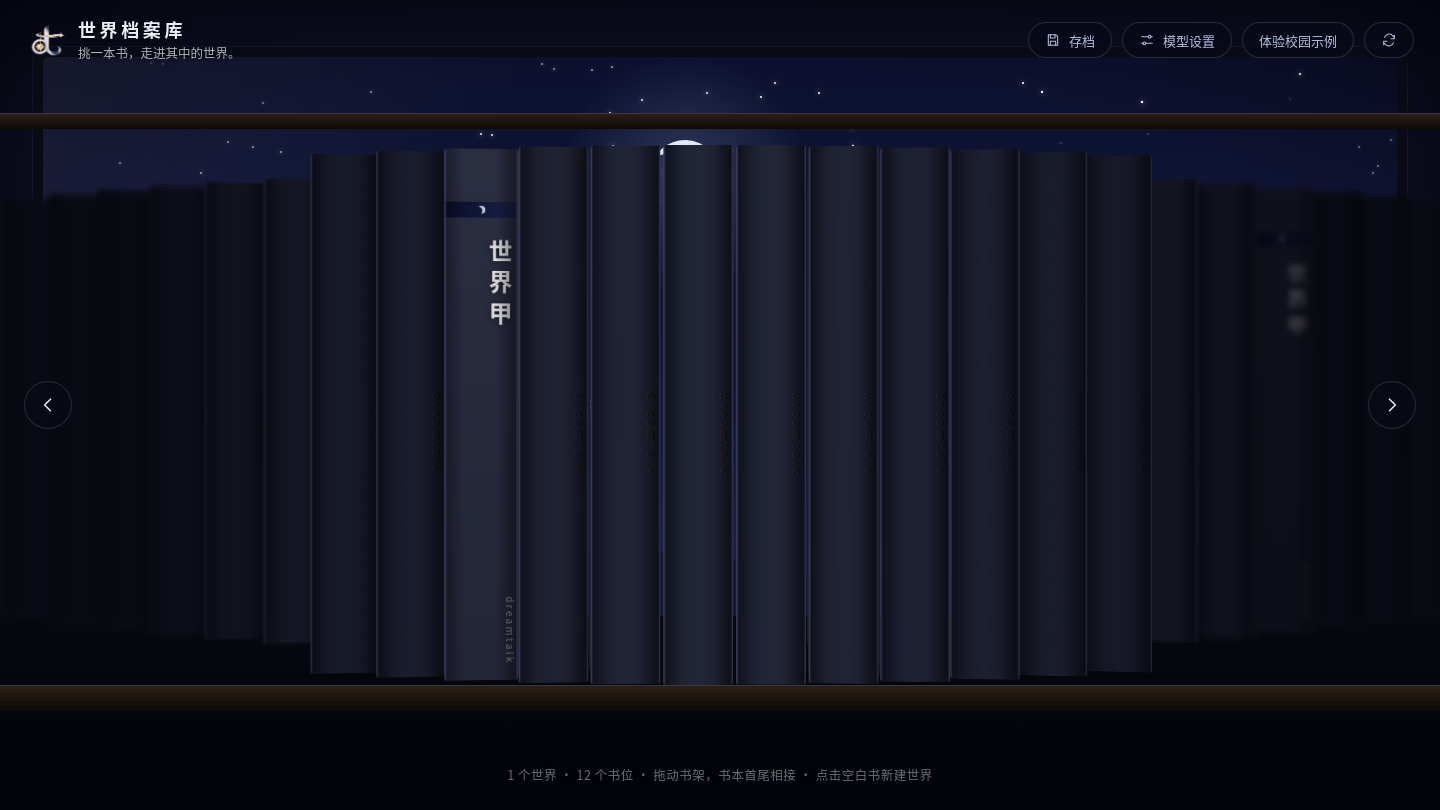
Test: renders four bottom tabs and keeps the known-event entry pinned
Click the button with aria-label "预览世界：世界甲".
click(489, 412)  # box [456,172,523,652]
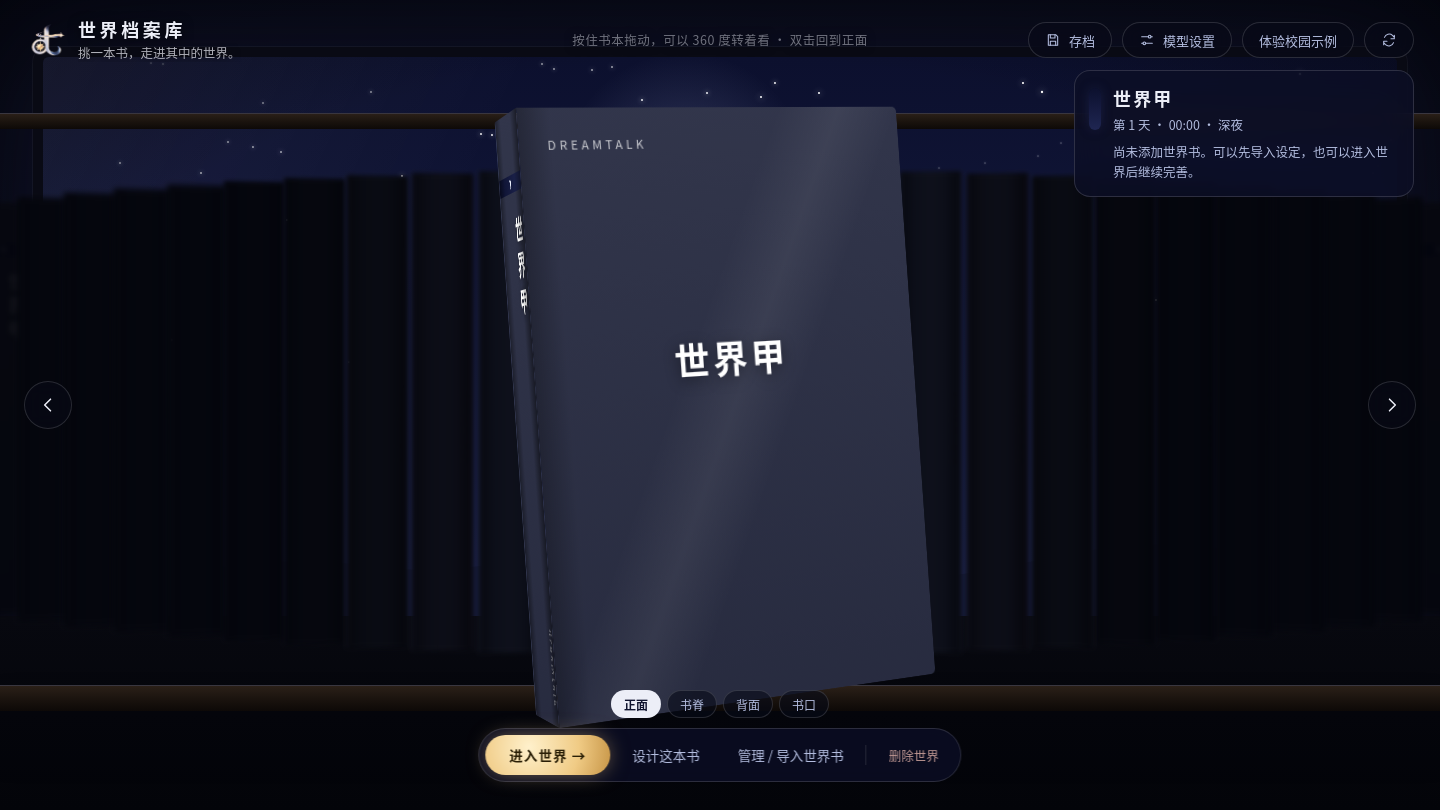
Click the button "进入世界 →".
click(548, 755)  # box [485,735,610,775]
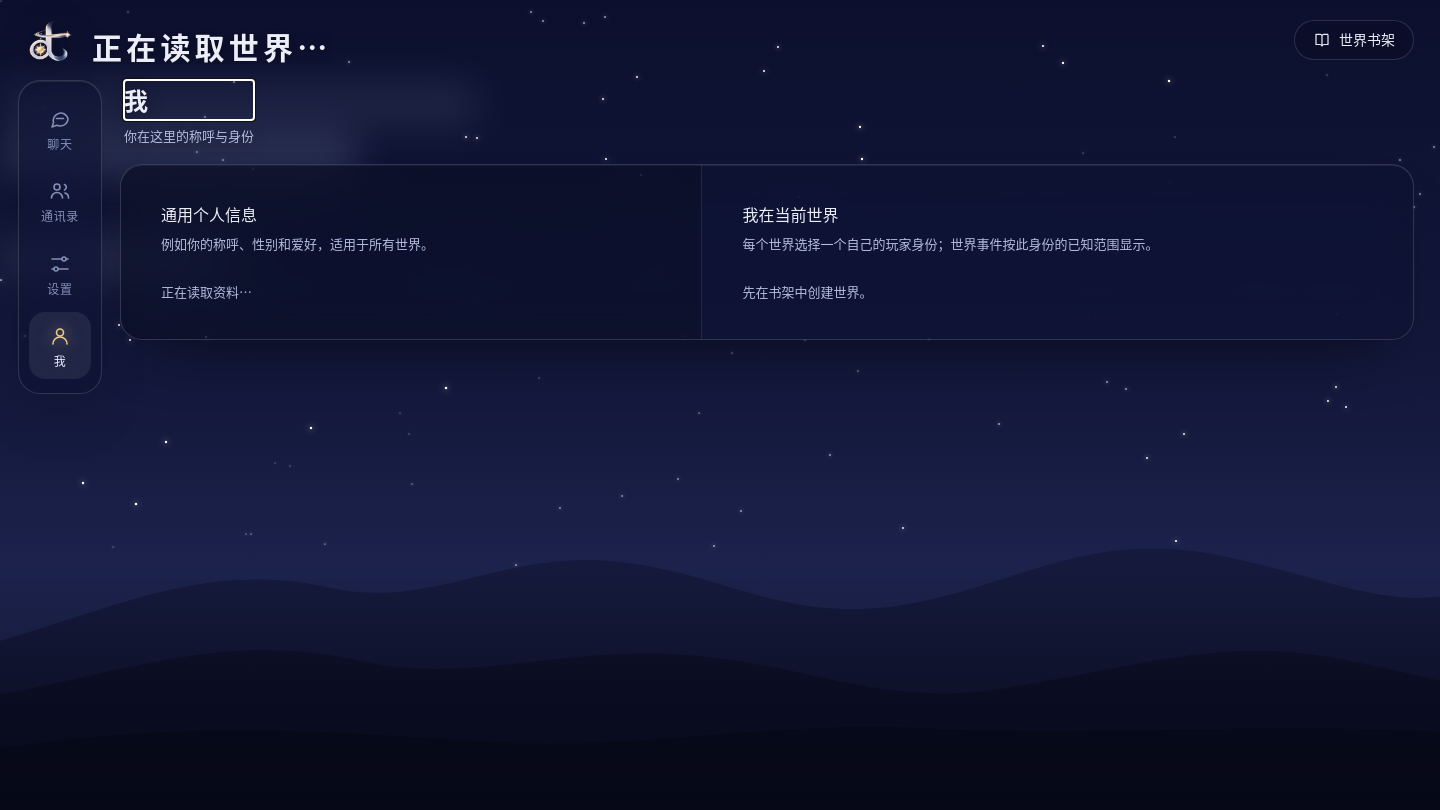
Expected: the navigation bar named "主导航" is shown, [18,80,102,394]
Click the button "聊天".
click(60, 128)  # box [29,95,91,161]
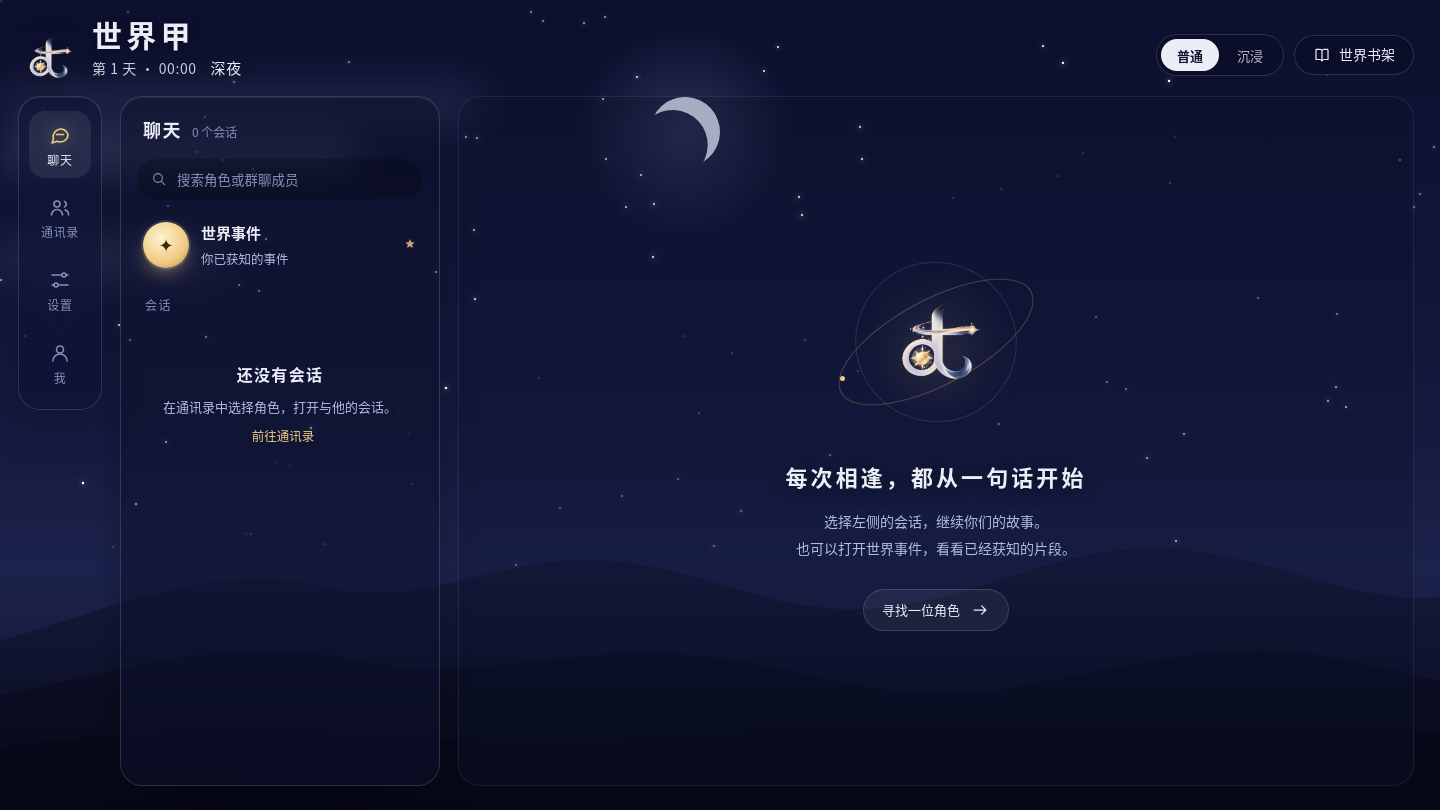
Expected: the text "世界甲" is shown, [92,12,195,56]
Expected: the button named "世界事件你已获知的事件置顶" is shown, [133,211,427,279]
Click the button "通讯录".
click(60, 217)  # box [29,184,91,250]
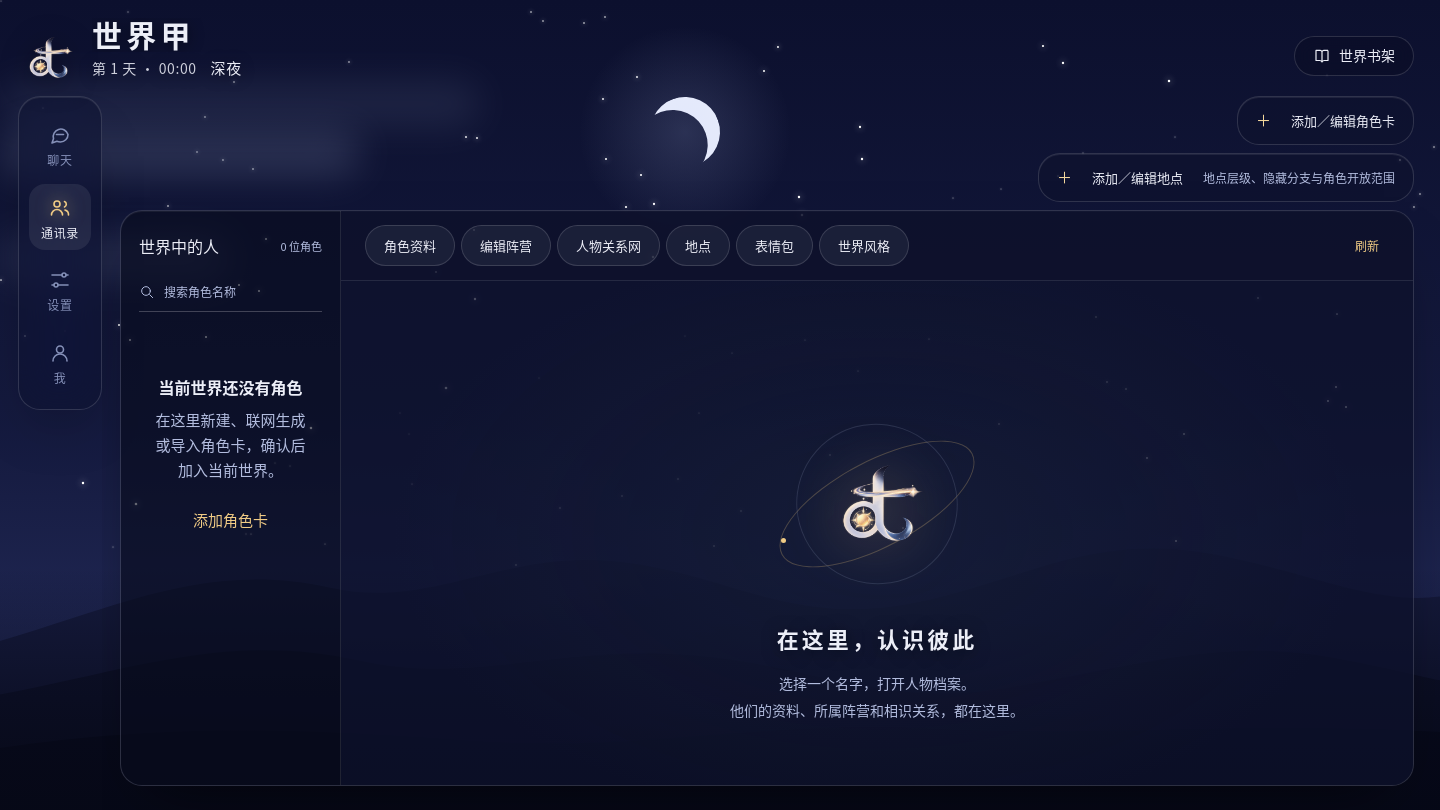
Expected: the heading "当前世界还没有角色" is shown, [151,374,310,400]
